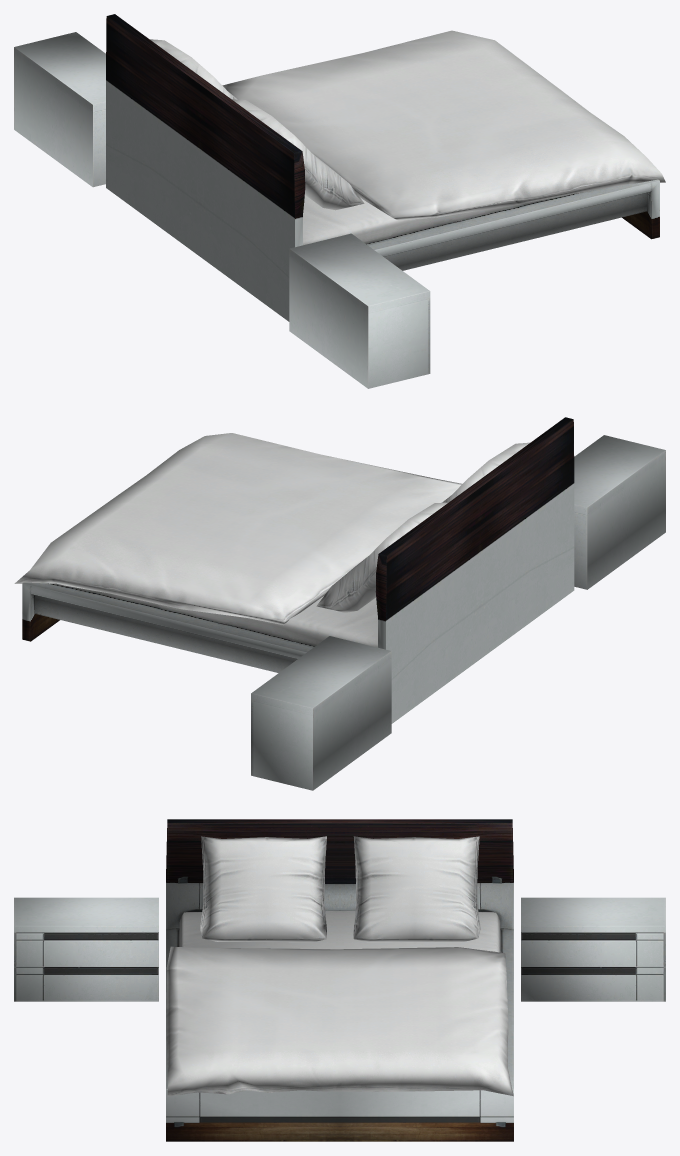
Rendered from Bed_01.FBX.
3 renders of one model, top to bottom at view 1: azimuth 30°, elevation 25°; view 2: azimuth 150°, elevation 25°; view 3: azimuth 270°, elevation 25°, orthographic. The views are drawn at different scales.
Parts seen in each view (by area): view 1: Bed_01; view 2: Bed_01; view 3: Bed_01.
Part boxes in pixels (left/top/right/bottom): Bed_01: left=14, top=14, right=665, bottom=388; Bed_01: left=14, top=417, right=665, bottom=790; Bed_01: left=14, top=819, right=665, bottom=1141.
Size of the model in its own units: 2.8 by 1.21 by 4.49.
